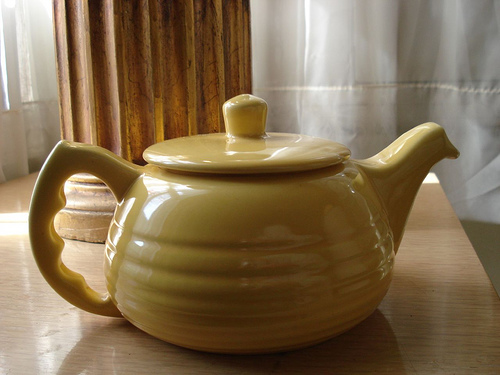teapot: (18, 75, 487, 370)
